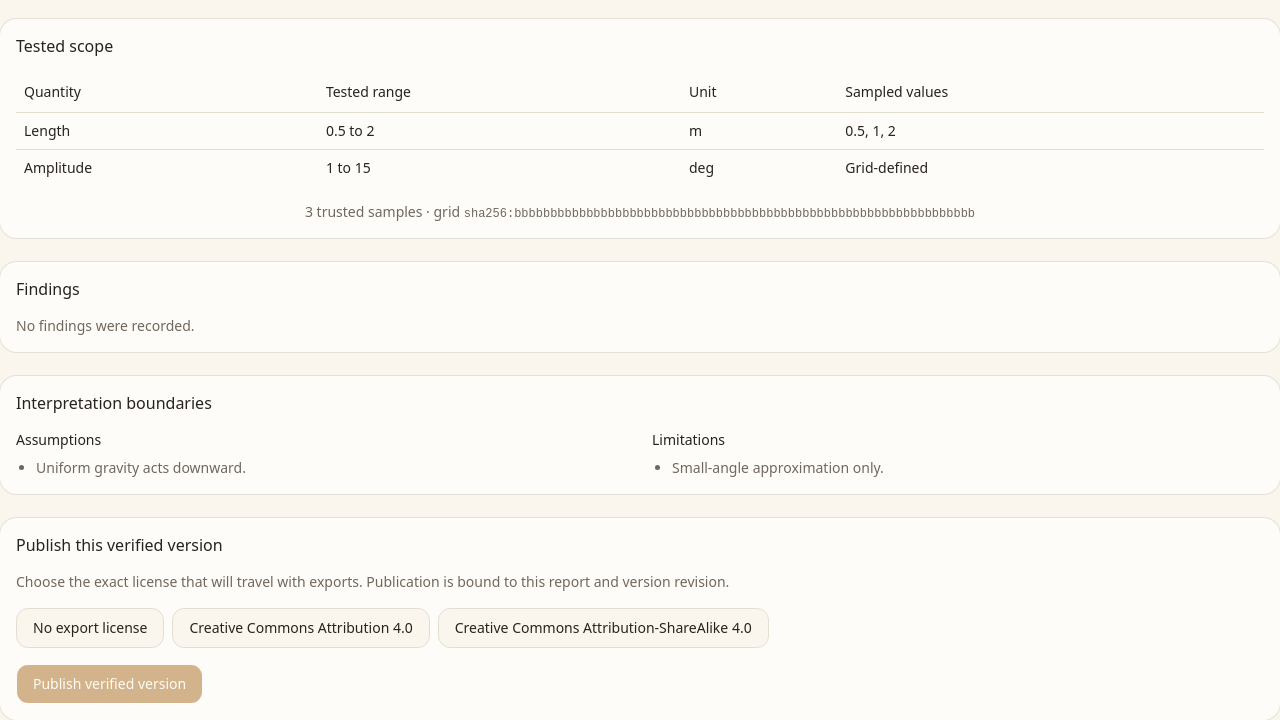
Test case: verification report › publishes against the exact run and revision and refreshes after a server conflict
(page scrolled)
Click the button "No export license".
click(90, 628)  # box [16,608,164,648]
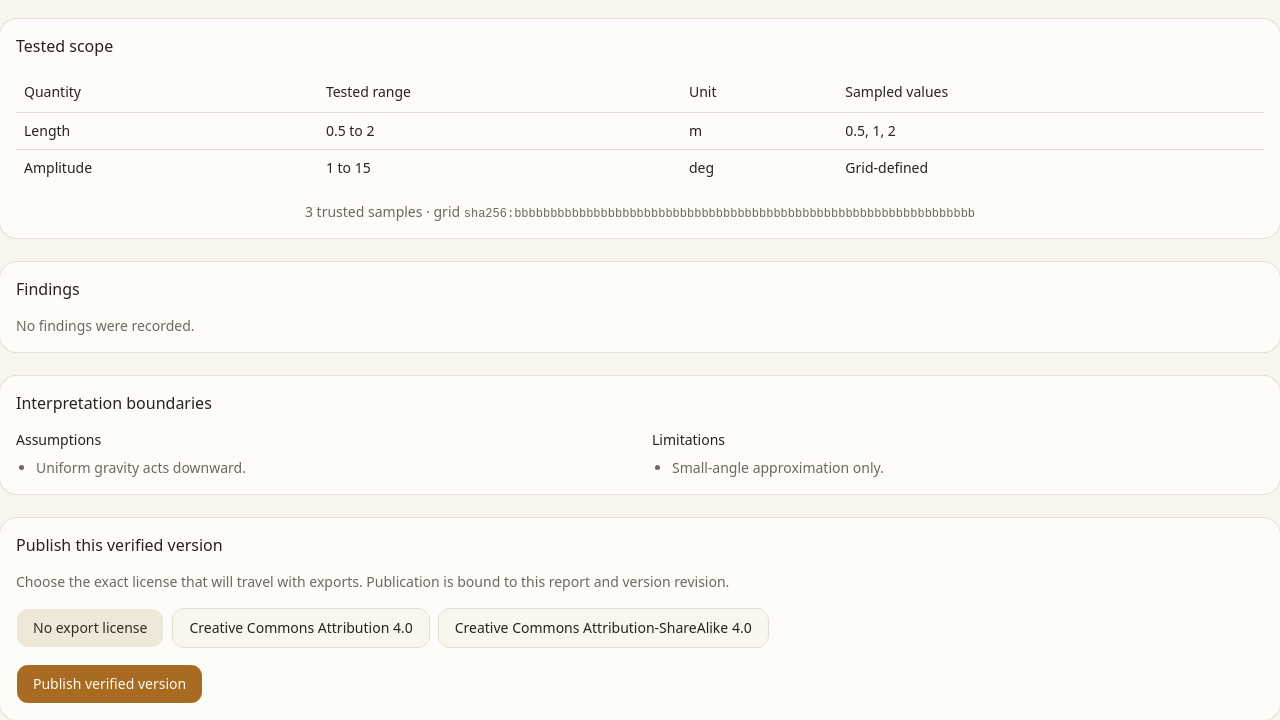
Click the button "Publish verified version".
click(110, 684)  # box [16,664,203,704]
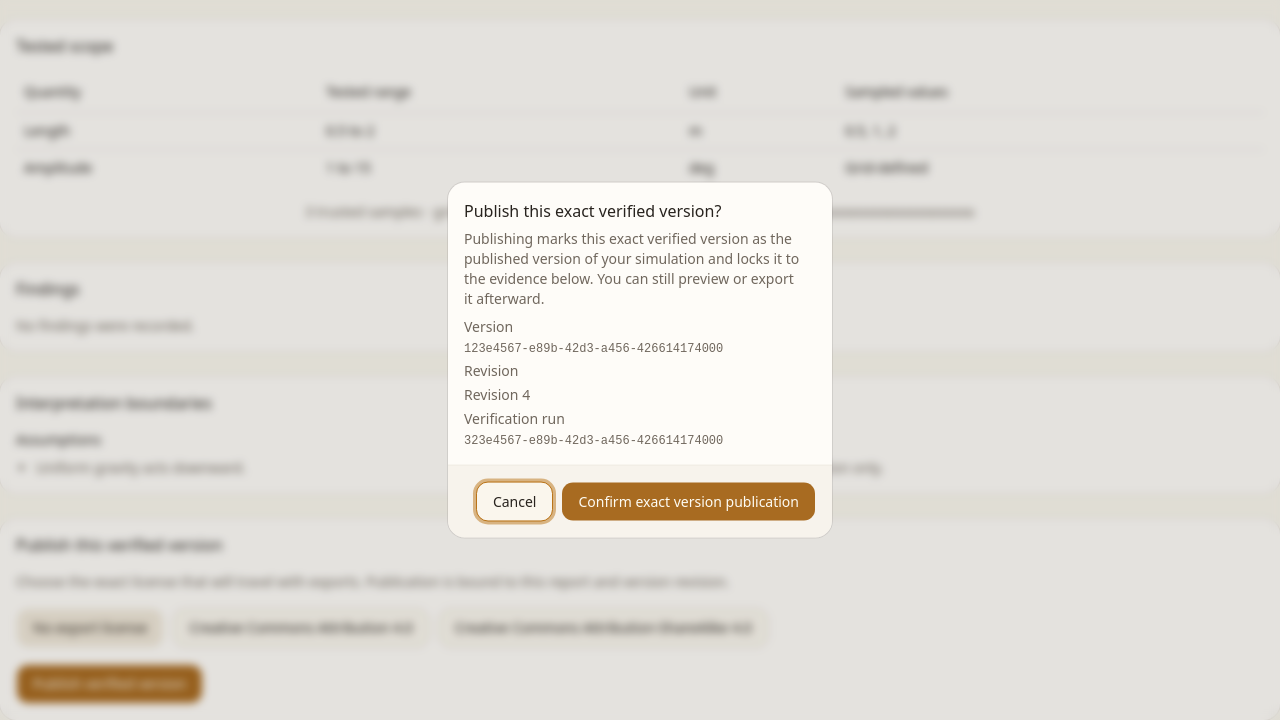
Click the button "Confirm exact version publication".
click(689, 502)  # box [562,482,816,522]
(page scrolled)
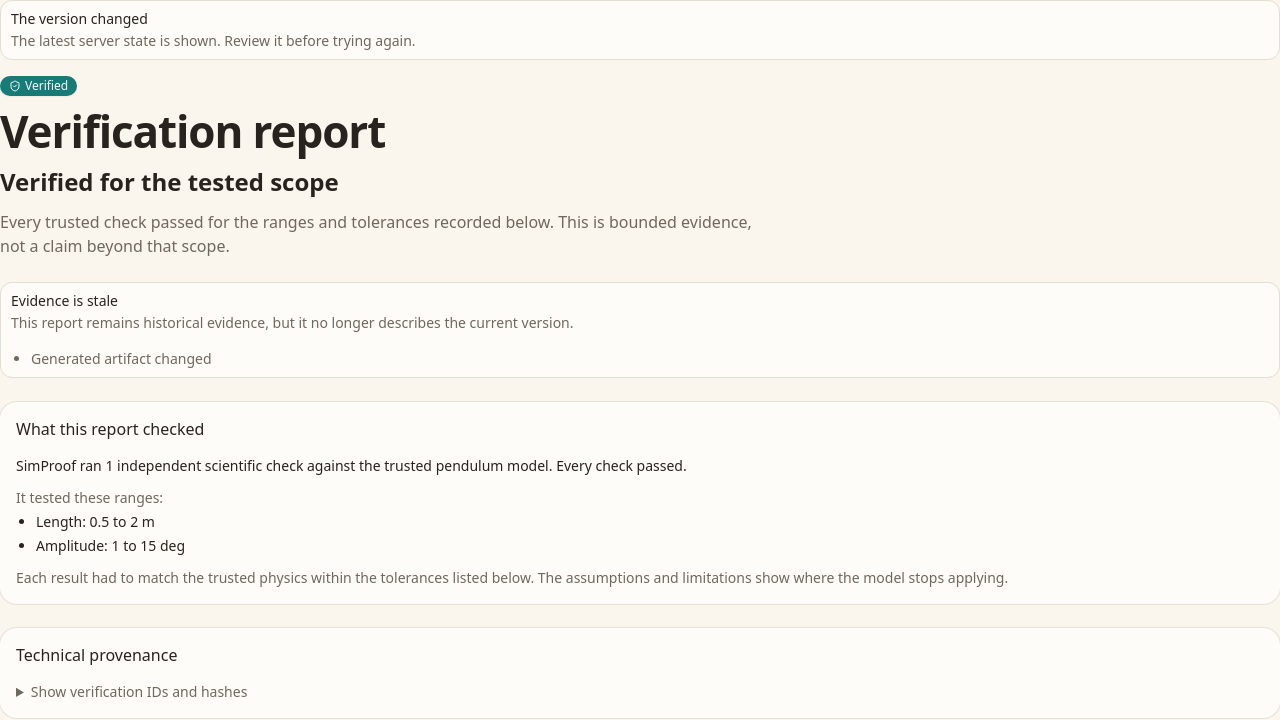
Check: the text "The version changed" is shown, box [11,9,148,28]
Check: the text "Evidence is stale" is shown, box [11,291,118,310]
